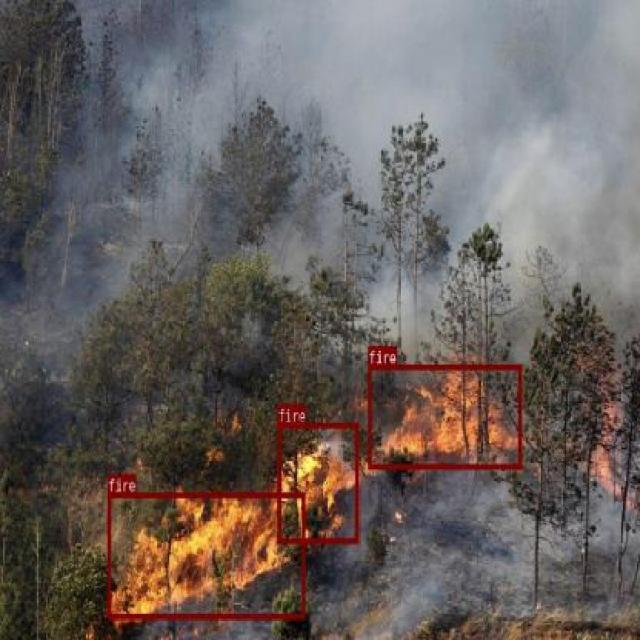fire: (107, 492, 306, 618), (368, 363, 520, 468), (276, 422, 358, 542)
